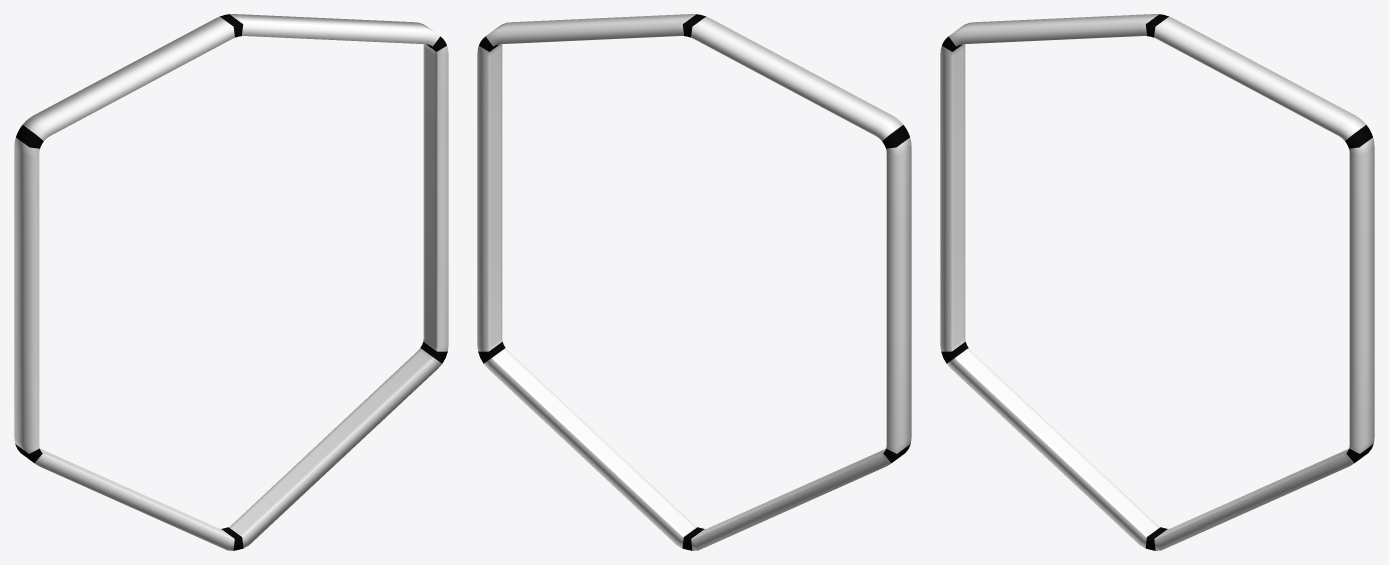
Rendered from shield (3).glb.
3 views of the same model, side by side, from view 1: azimuth 30°, elevation 25°; view 2: azimuth 150°, elevation 25°; view 3: azimuth 330°, elevation 25° (orthographic).
Visible parts, largest first — view 1: shit009; view 2: shit009; view 3: shit009.
Part boxes in pixels (box(x1,y1,x2,y2)): shit009: box(14, 14, 448, 550); shit009: box(477, 14, 911, 550); shit009: box(940, 14, 1374, 550).
Size of the model in its own units: 2.1 by 2.5 by 0.12.
Materials: 1 (1 with a texture image).
